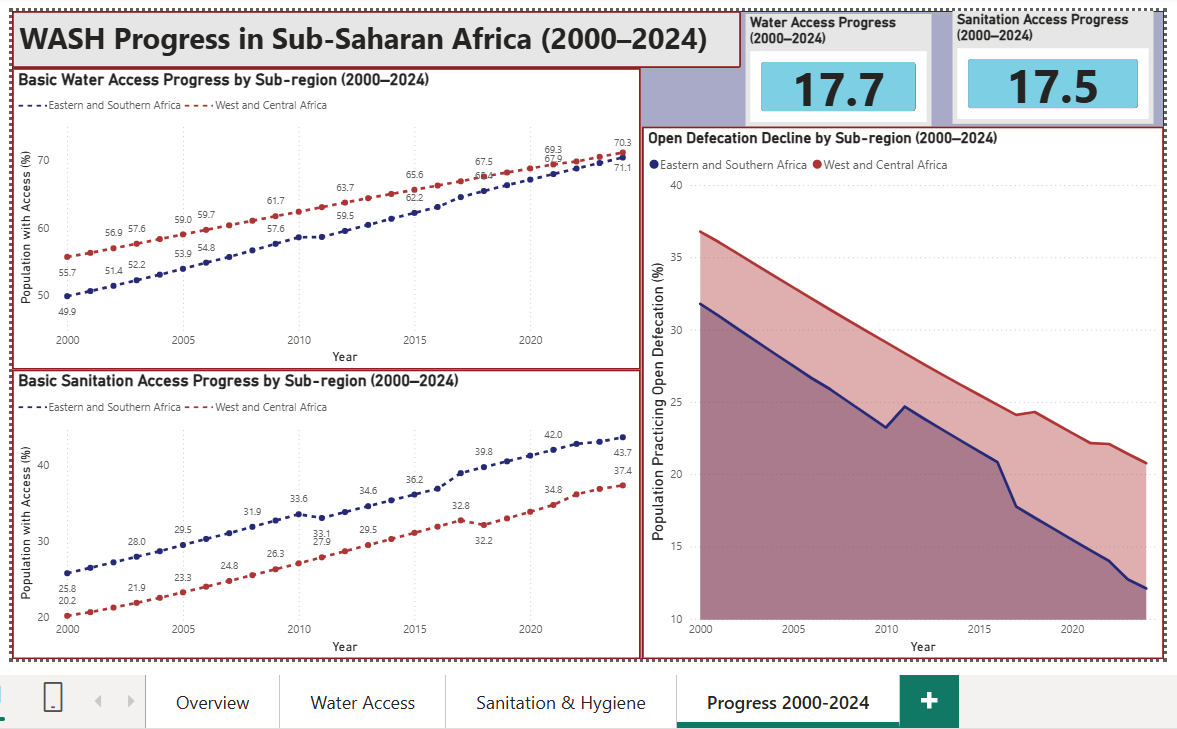

This screenshot's page, from the dashboard's own definition file:
{"tool":"powerbi","page":{"name":"Progress 2000-2024","canvas":[1280,720],"ordinal":3},"visuals":[{"type":"shape","box":[0,0,1280,720],"z":0},{"type":"textbox","box":[0,0,810,63.3],"z":1000},{"type":"cardVisual","title":"Water Access Progress (2000–2024)","fields":{"Data":["hygiene_latest.Water Progress"]},"box":[815,3.3,206.7,125],"z":3000},{"type":"areaChart","title":"Open Defecation Decline by Sub-region (2000–2024)","fields":{"Category":["sanitation_timeseries.Year"],"Y":["Avg(sanitation_timeseries.San_OpenDefecation_Total)"],"Series":["sanitation_timeseries.UNICEF_Region"]},"box":[700,128.3,580,591.7],"z":4000},{"type":"lineChart","title":"Basic Water Access Progress by Sub-region (2000–2024)","fields":{"Category":["water_timeseries.Year"],"Y":["Avg(water_timeseries.Water_Basic_Total)"],"Series":["water_timeseries.UNICEF_Region"]},"box":[0,63.3,698.3,335],"z":6000},{"type":"cardVisual","title":"Sanitation Access Progress (2000–2024)","fields":{"Data":["sanitation_timeseries.Sanitation Progress"]},"box":[1045,0,223.3,125],"z":7000},{"type":"lineChart","title":"Basic Sanitation Access Progress by Sub-region (2000–2024)","fields":{"Category":["sanitation_timeseries.Year"],"Y":["Avg(sanitation_timeseries.San_Basic_Total)"],"Series":["sanitation_timeseries.UNICEF_Region"]},"box":[0,398.3,698.3,321.7],"z":7001}]}

Visuals, with their boxes in screenshot pixels (x1, y1, x2, y2):
shape: <region>3, 6, 1164, 659</region>
textbox: <region>3, 6, 738, 64</region>
"Water Access Progress (2000–2024)" cardVisual: <region>742, 9, 930, 122</region>
"Open Defecation Decline by Sub-region (2000–2024)" areaChart: <region>638, 122, 1164, 659</region>
"Basic Water Access Progress by Sub-region (2000–2024)" lineChart: <region>3, 64, 636, 367</region>
"Sanitation Access Progress (2000–2024)" cardVisual: <region>951, 6, 1153, 119</region>
"Basic Sanitation Access Progress by Sub-region (2000–2024)" lineChart: <region>3, 367, 636, 659</region>
